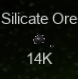Silicate: (1, 11, 78, 65)
